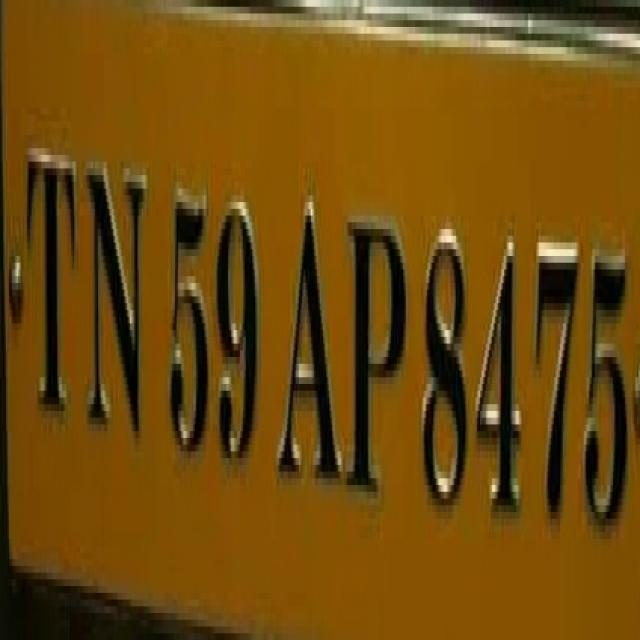4: (471, 191, 524, 554)
5: (585, 206, 633, 552), (166, 127, 211, 484)
7: (530, 160, 581, 542)
8: (420, 183, 469, 547)
9: (211, 183, 265, 511)
A: (278, 177, 343, 545)
N: (82, 127, 147, 468)
P: (346, 188, 406, 534)
T: (21, 107, 81, 446)
